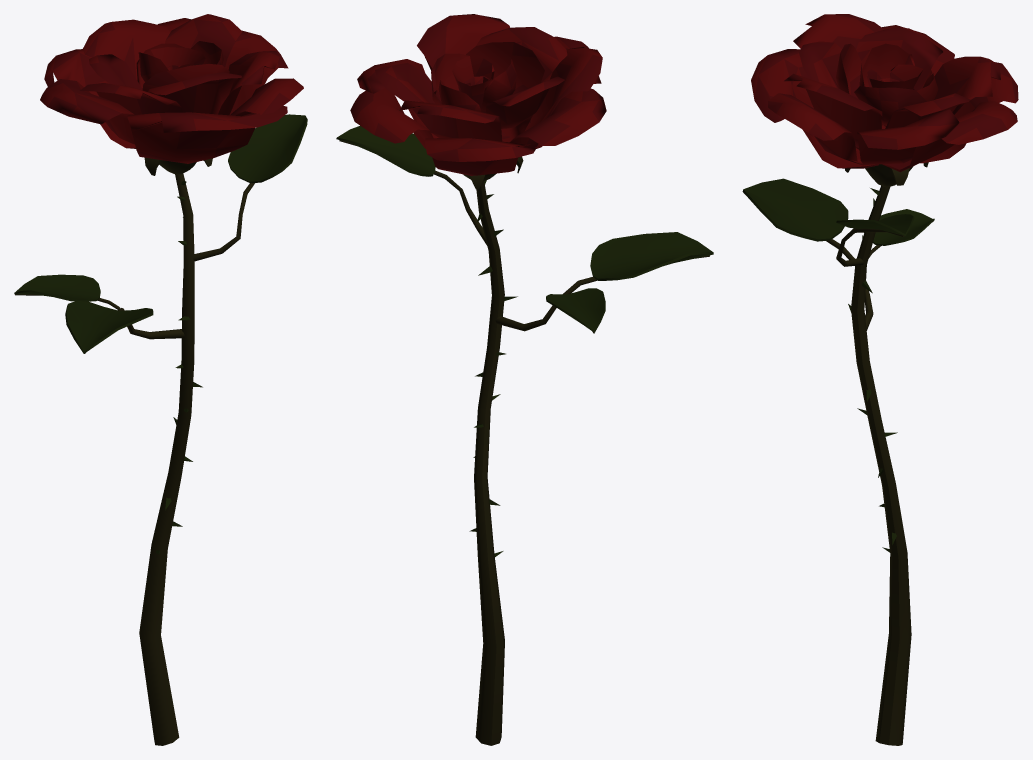
Rendered from Rose.fbx.
3 renders of one model, left to right at view 1: azimuth 30°, elevation 25°; view 2: azimuth 150°, elevation 25°; view 3: azimuth 270°, elevation 25°, orthographic. The views are drawn at different scales.
Visible parts, largest first — view 1: Plane.014; view 2: Plane.014; view 3: Plane.014.
Part boxes in pixels (x1,y1,x2,y2): Plane.014: (14,14,307,745); Plane.014: (336,14,713,745); Plane.014: (742,14,1018,745).
Bounding box in the file's own units: 41.24 × 90.59 × 32.57.
